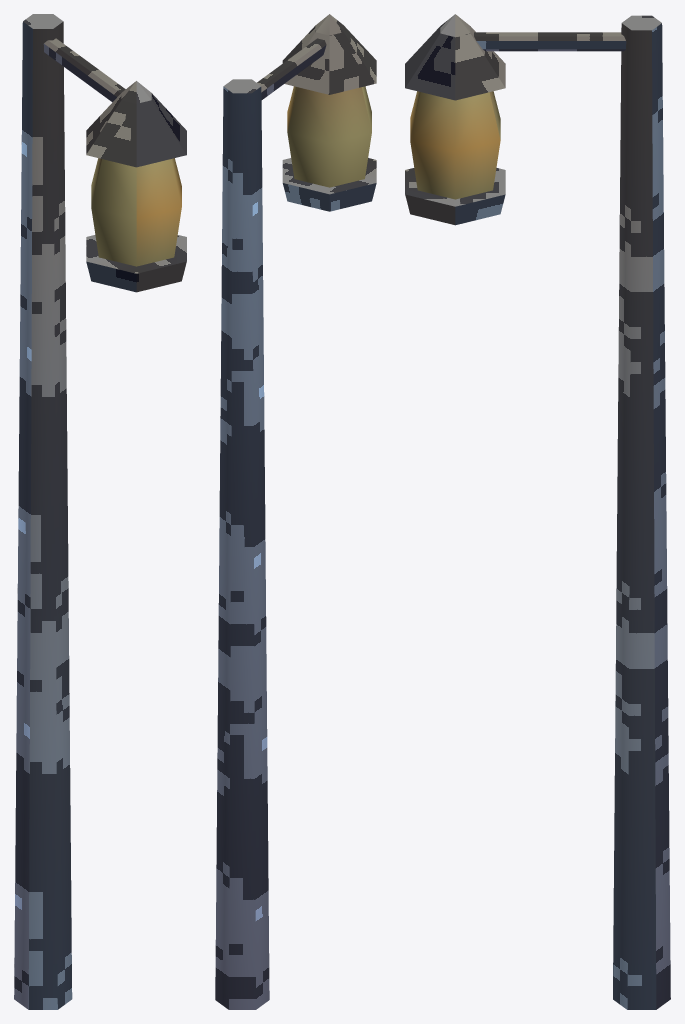
File: wprop.lantern__post.glb
The picture shows the model from 3 angles, left to right: view 1: azimuth 30°, elevation 25°; view 2: azimuth 150°, elevation 25°; view 3: azimuth 270°, elevation 25°; orthographic projection. The views are drawn at different scales.
Parts seen in each view (by area): view 1: kit_post, kit_glass, kit_cap, kit_base, kit_arm; view 2: kit_post, kit_glass, kit_cap, kit_base, kit_arm; view 3: kit_post, kit_glass, kit_cap, kit_base, kit_arm.
Boxes of the visible parts, x1=… form: kit_post: x1=14, y1=14, x2=72, y2=1009; kit_glass: x1=91, y1=158, x2=181, y2=266; kit_cap: x1=86, y1=81, x2=186, y2=167; kit_base: x1=86, y1=235, x2=186, y2=292; kit_arm: x1=43, y1=38, x2=125, y2=102; kit_post: x1=215, y1=79, x2=269, y2=1009; kit_glass: x1=287, y1=86, x2=371, y2=187; kit_cap: x1=282, y1=14, x2=376, y2=94; kit_base: x1=282, y1=158, x2=376, y2=211; kit_arm: x1=257, y1=38, x2=326, y2=99; kit_post: x1=613, y1=15, x2=670, y2=1009; kit_glass: x1=410, y1=91, x2=500, y2=199; kit_cap: x1=405, y1=14, x2=505, y2=100; kit_base: x1=405, y1=168, x2=505, y2=225; kit_arm: x1=474, y1=32, x2=626, y2=51.
Bounding box in the file's own units: 0.28 × 2.62 × 0.6412.
Materials: 3 (2 with a texture image).
